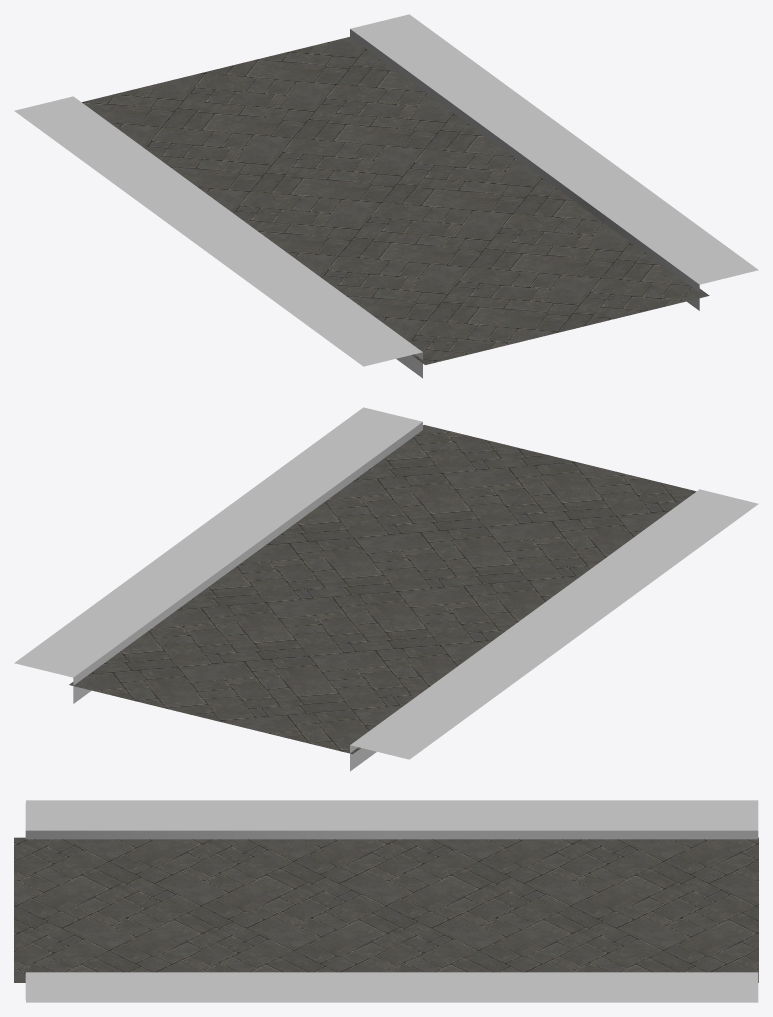
The model's file is S7_3d_dilao_dimian_002.FBX.
The picture shows the model from 3 angles, top to bottom: view 1: azimuth 30°, elevation 25°; view 2: azimuth 150°, elevation 25°; view 3: azimuth 270°, elevation 25°; orthographic projection. The views are drawn at different scales.
Visible parts, largest first — view 1: S7_3d_dilao_dimian_002, S7_3d_dilao_qiang_012; view 2: S7_3d_dilao_dimian_002, S7_3d_dilao_qiang_012; view 3: S7_3d_dilao_dimian_002, S7_3d_dilao_qiang_012.
Boxes of the visible parts, x1,y1,x2,y2 form: S7_3d_dilao_dimian_002: (82,37,709,364); S7_3d_dilao_qiang_012: (14,14,758,378); S7_3d_dilao_dimian_002: (69,425,696,754); S7_3d_dilao_qiang_012: (14,407,758,771); S7_3d_dilao_dimian_002: (14,837,758,982); S7_3d_dilao_qiang_012: (25,800,758,1002).
Size of the model in its own units: 1293 by 82.46 by 2012.
